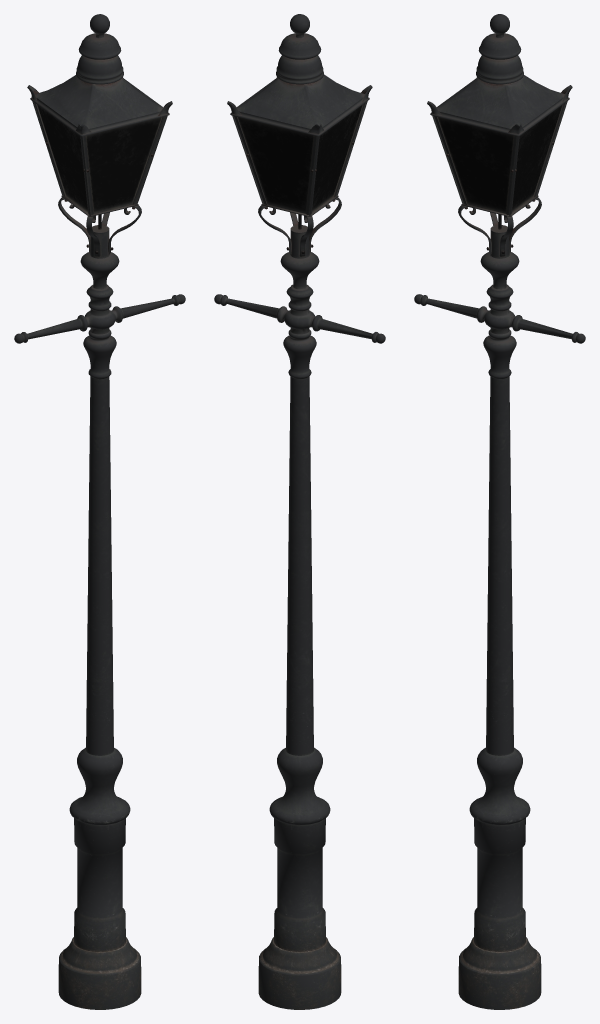
The model's file is street_lamp_01.glb.
3 renders of one model, left to right at view 1: azimuth 30°, elevation 25°; view 2: azimuth 150°, elevation 25°; view 3: azimuth 330°, elevation 25°, orthographic.
Visible parts, largest first — view 1: street_lamp_01; view 2: street_lamp_01; view 3: street_lamp_01.
Part boxes in pixels (x1,y1,x2,y2): street_lamp_01: [14, 14, 185, 1009]; street_lamp_01: [214, 14, 385, 1009]; street_lamp_01: [414, 14, 585, 1009].
Bounding box in the file's own units: 0.7044 × 3.87 × 0.386.
Materials: 3 (3 with a texture image).
